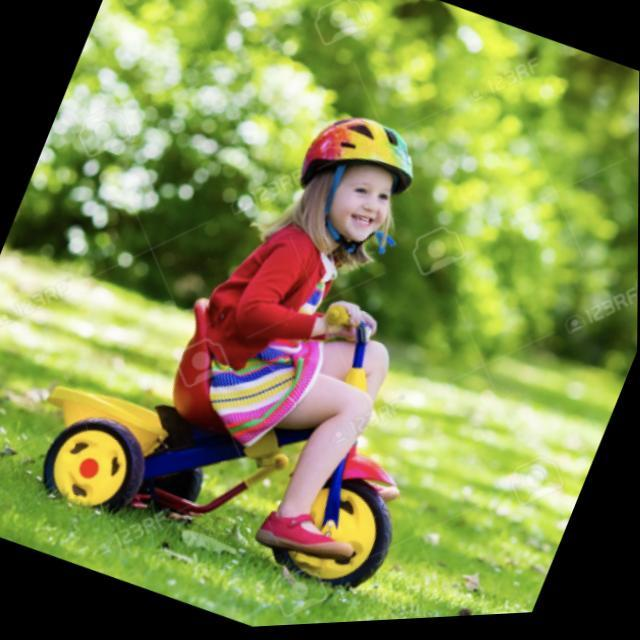Helmet: (289, 102, 413, 267)
